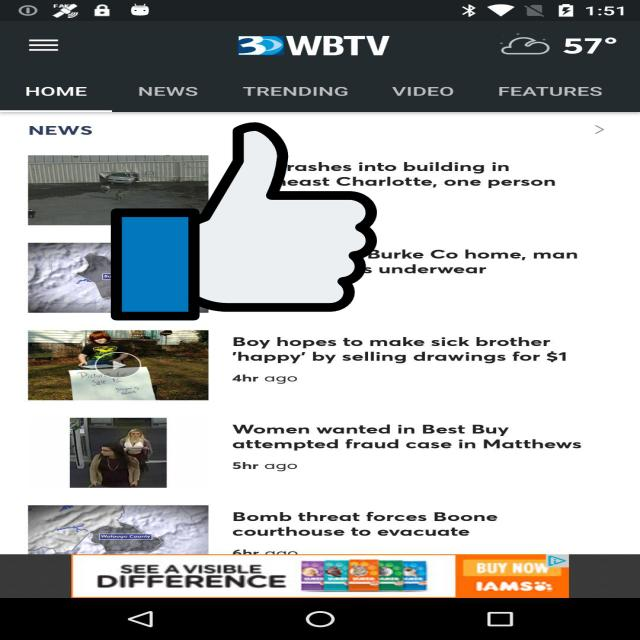privacy zuckering: (111, 118, 377, 325)
